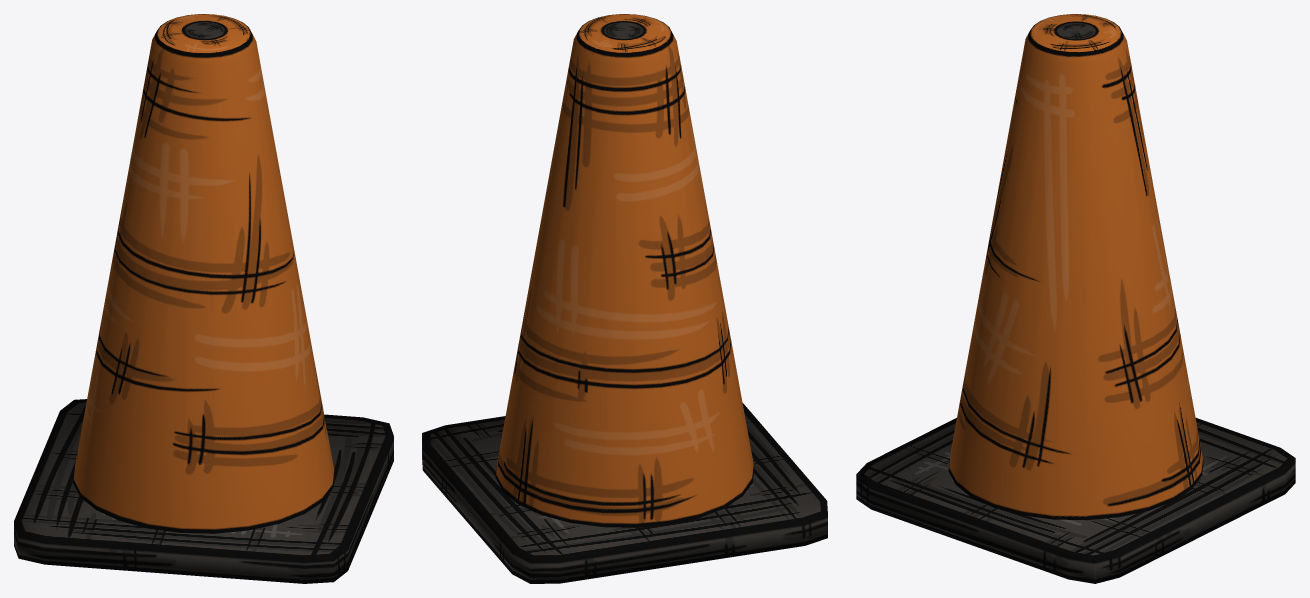
File: TrafficCone12.FBX
The picture shows the model from 3 angles, left to right: view 1: azimuth 30°, elevation 25°; view 2: azimuth 150°, elevation 25°; view 3: azimuth 270°, elevation 25°; orthographic projection. The views are drawn at different scales.
Visible parts, largest first — view 1: Cone011; view 2: Cone011; view 3: Cone011.
Part boxes in pixels (x1=…): Cone011: x1=14, y1=14, x2=393, y2=583; Cone011: x1=422, y1=14, x2=827, y2=583; Cone011: x1=856, y1=14, x2=1295, y2=583.
Size of the model in its own units: 59.31 by 68.56 by 59.31.
